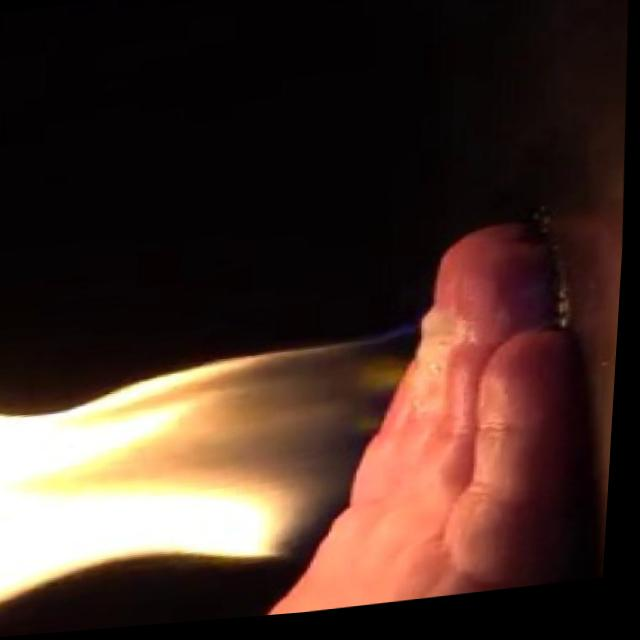Fire: (10, 331, 429, 550)
